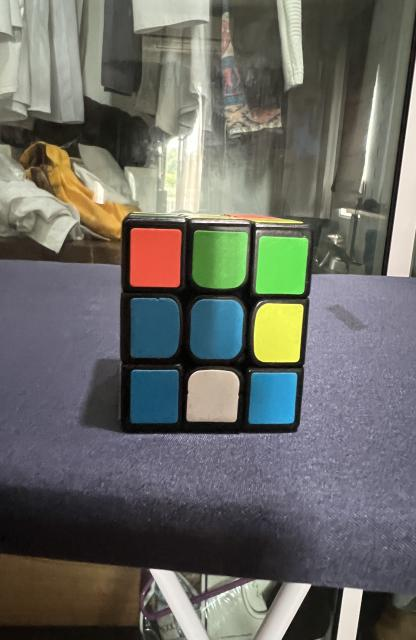Blue: (190, 299, 244, 360), (130, 298, 180, 359), (130, 370, 179, 424), (248, 372, 298, 424)
Green: (192, 230, 248, 289), (256, 236, 309, 295)
Orange: (130, 228, 182, 288)
White: (186, 370, 239, 422)
Yellow: (254, 302, 303, 362)
